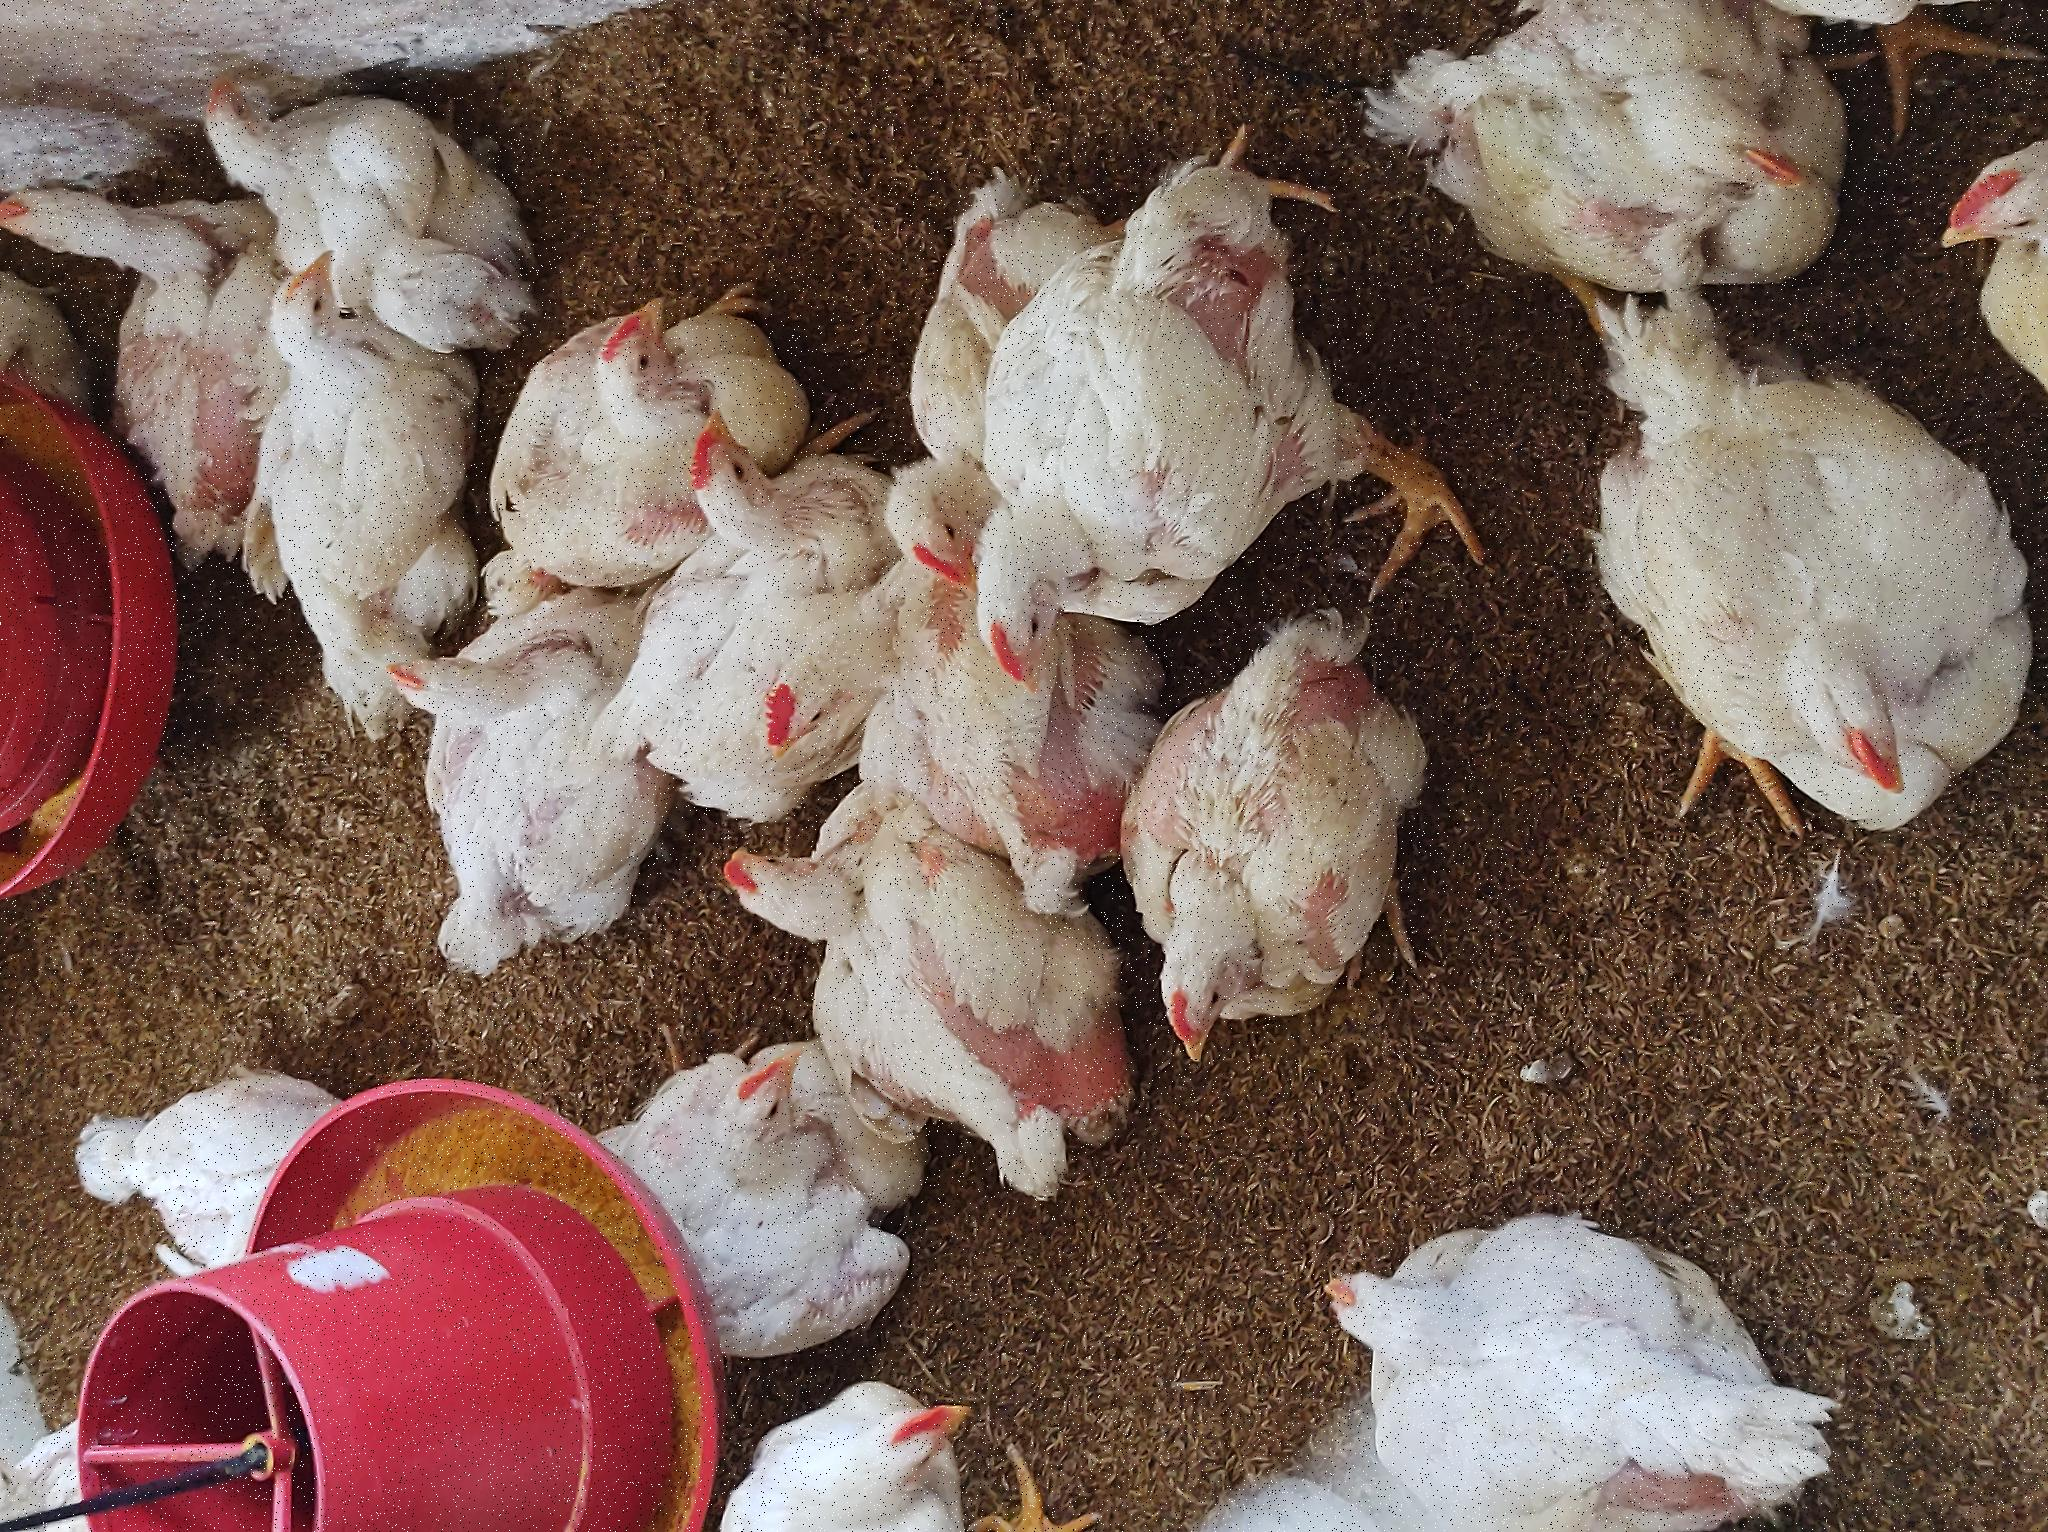Pollos: (825, 970, 1384, 1361), (359, 727, 735, 1114), (457, 1138, 915, 1415), (159, 554, 507, 908), (557, 373, 923, 624), (1041, 6, 1395, 257), (956, 872, 1437, 1056), (943, 463, 1265, 715), (2, 1312, 352, 1532), (251, 69, 515, 356), (817, 249, 1279, 410), (2, 711, 183, 1028), (1293, 180, 1472, 499), (1252, 1392, 1532, 1532), (936, 681, 1129, 822), (767, 747, 898, 898)
